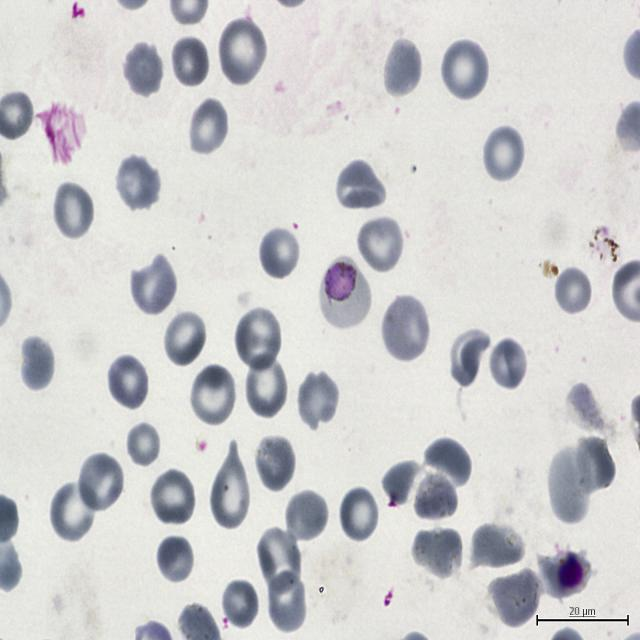gametocyte: (320, 259, 371, 330)
leukocyte: (557, 555, 584, 590)
red blood cell: (381, 293, 432, 364), (217, 17, 267, 88), (234, 305, 282, 375), (210, 442, 250, 526), (188, 362, 238, 428), (545, 454, 593, 522), (489, 566, 541, 628), (440, 38, 490, 102), (76, 450, 126, 514), (255, 527, 302, 595), (49, 478, 98, 543), (356, 213, 406, 275), (130, 253, 178, 317), (243, 354, 289, 420), (149, 467, 196, 528), (114, 153, 162, 212), (266, 568, 308, 635), (162, 308, 208, 369), (570, 434, 615, 496), (412, 525, 462, 580), (51, 180, 95, 242), (296, 370, 340, 431), (253, 432, 297, 493), (381, 37, 423, 100), (411, 474, 458, 530), (482, 124, 526, 183), (338, 484, 381, 544), (187, 97, 229, 158), (106, 353, 150, 411), (424, 437, 473, 488), (471, 522, 523, 570), (284, 489, 329, 544), (258, 225, 302, 281), (336, 160, 384, 210), (122, 41, 164, 98), (17, 334, 56, 392), (488, 336, 528, 392), (170, 34, 210, 89), (449, 330, 486, 389), (156, 534, 197, 585), (554, 264, 592, 317), (381, 462, 424, 506), (220, 581, 259, 629), (125, 420, 162, 470)
